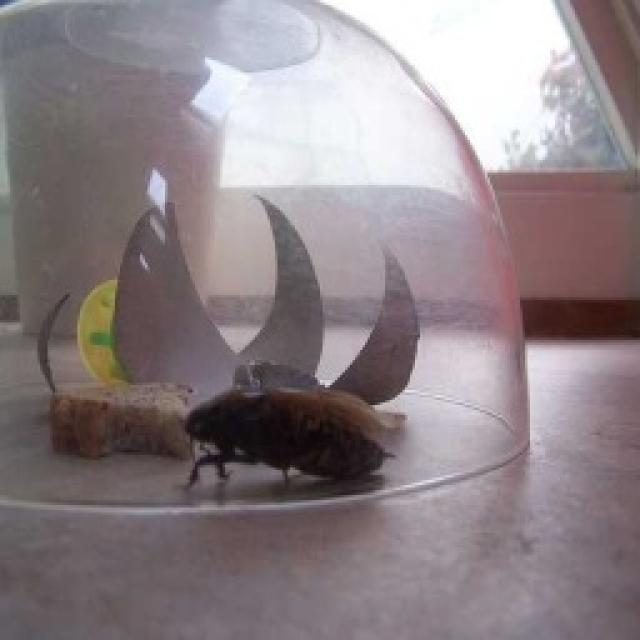cockroach: (178, 378, 407, 492)
